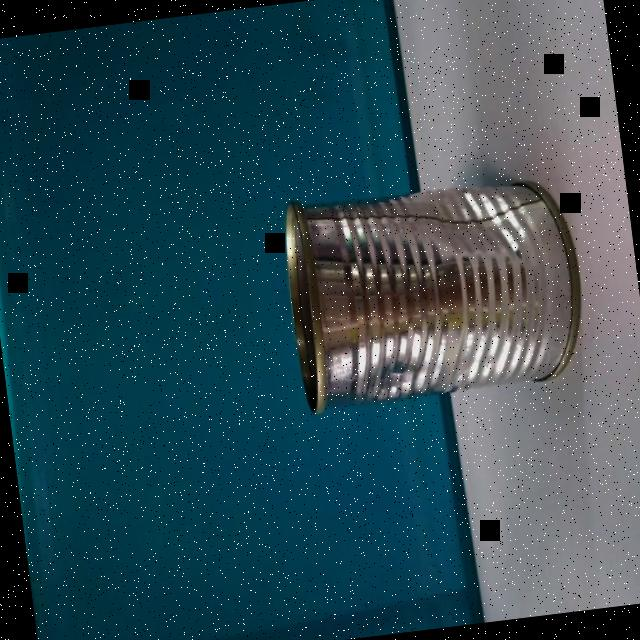can: (276, 165, 594, 416)
